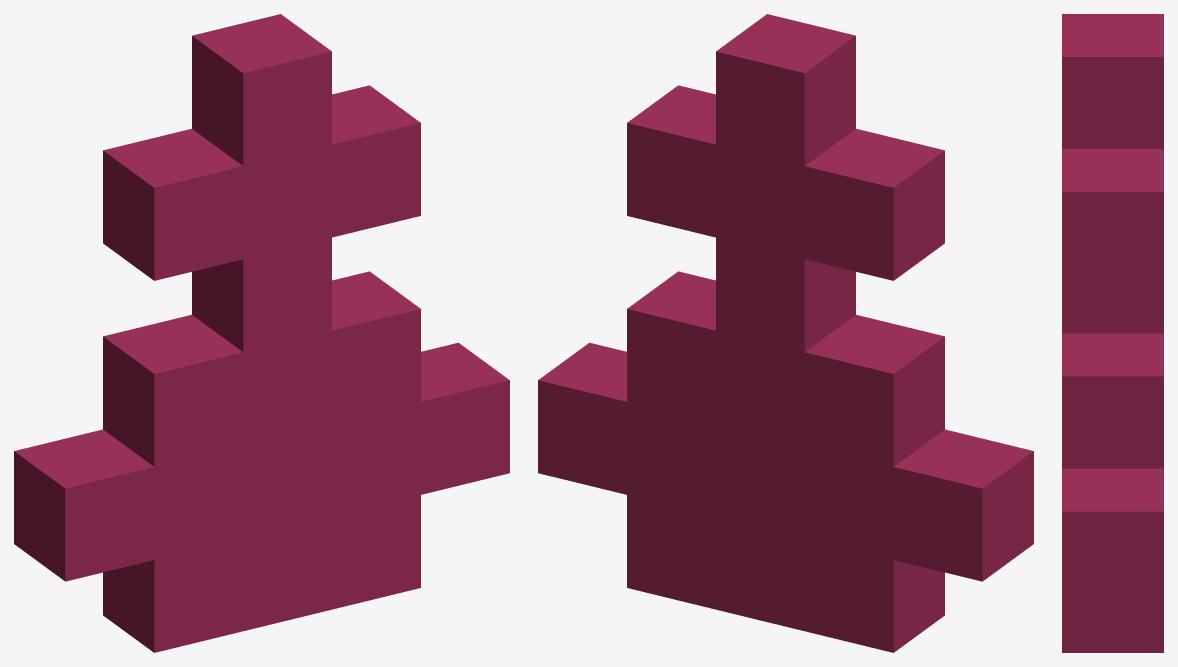
Rendered from Potion-Small-Purple.vox.obj.
3 renders of one model, left to right at view 1: azimuth 30°, elevation 25°; view 2: azimuth 150°, elevation 25°; view 3: azimuth 270°, elevation 25°, orthographic.
Bounding box in the file's own units: 0.5 × 0.6 × 0.1.
1 material, 1 textured.
